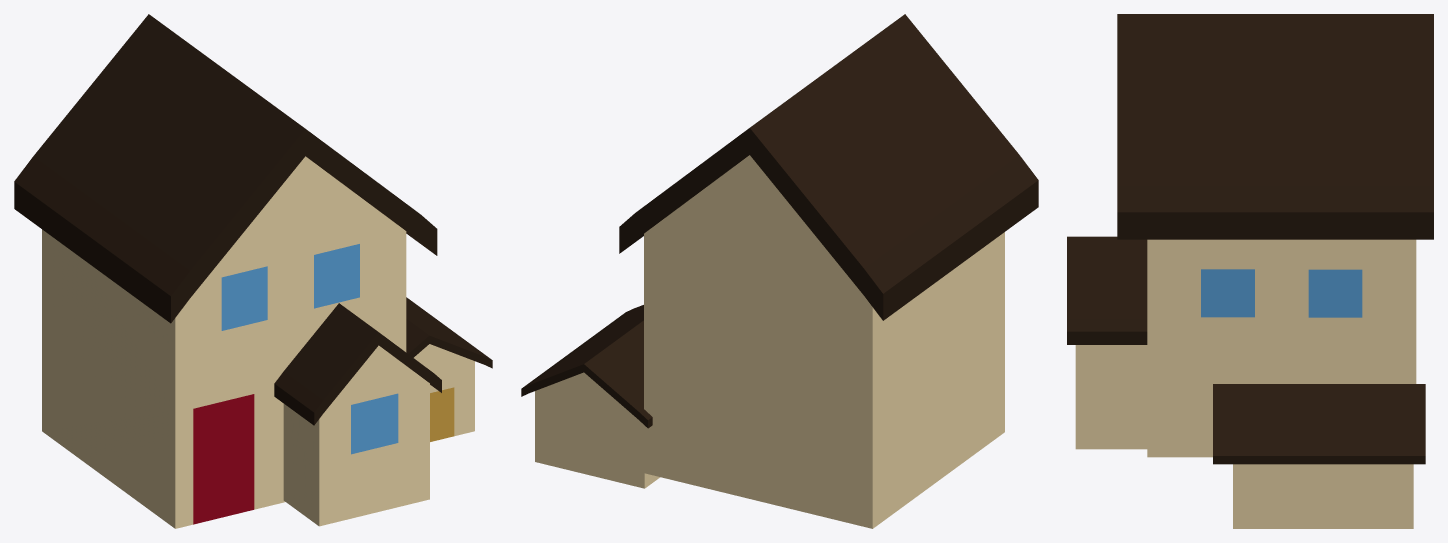
File: real_estate_and_rental_and_leasing.gltf
3 renders of one model, left to right at view 1: azimuth 30°, elevation 25°; view 2: azimuth 150°, elevation 25°; view 3: azimuth 270°, elevation 25°, orthographic.
Visible parts, largest first — view 1: Real Estate and Rental and Leasing; view 2: Real Estate and Rental and Leasing; view 3: Real Estate and Rental and Leasing.
Boxes of the visible parts, bbox=[...] form: Real Estate and Rental and Leasing: bbox=[14, 14, 492, 528]; Real Estate and Rental and Leasing: bbox=[521, 14, 1038, 528]; Real Estate and Rental and Leasing: bbox=[1067, 14, 1433, 528].
Bounding box in the file's own units: 1.04 × 1.07 × 0.8836.
Materials: 1 (1 with a texture image).
